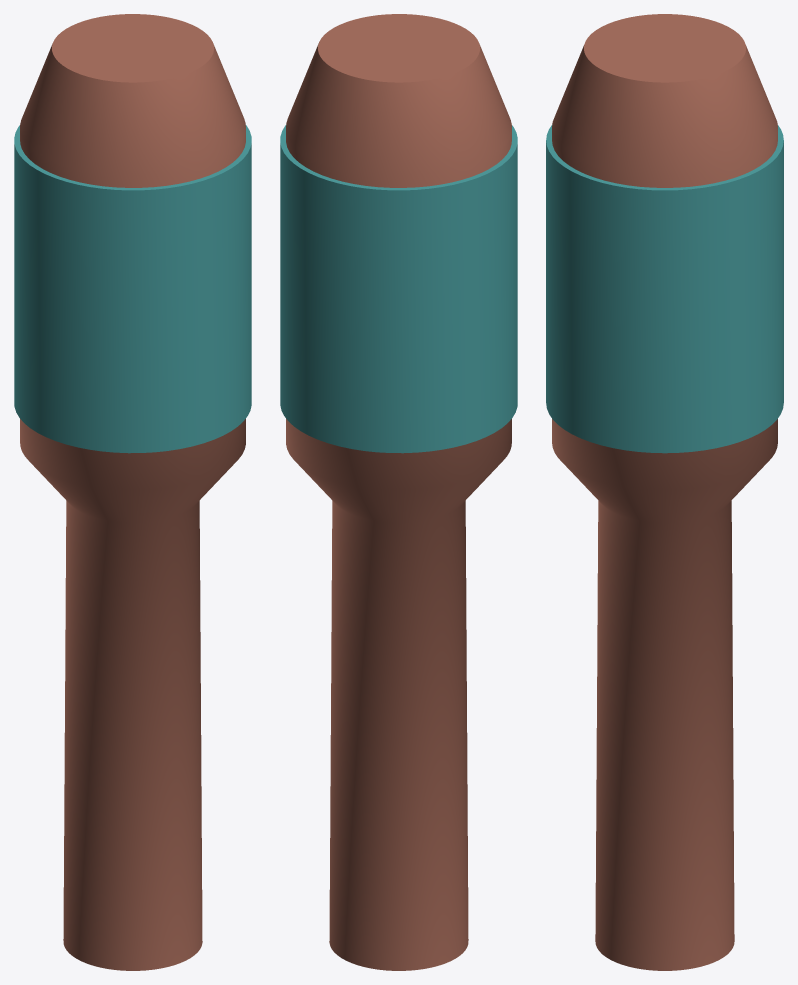
Rendered from enchanted-harp-garden-and-music-sanctuary-singing-bowl-8d2625fb__30422.glb.
The picture shows the model from 3 angles, left to right: view 1: azimuth 30°, elevation 25°; view 2: azimuth 150°, elevation 25°; view 3: azimuth 270°, elevation 25°; orthographic projection.
Parts seen in each view (by area): view 1: singing-bowl-striker; view 2: singing-bowl-striker; view 3: singing-bowl-striker.
Part boxes in pixels (x1,y1,x2,y2): singing-bowl-striker: (14,14,251,970); singing-bowl-striker: (280,14,517,970); singing-bowl-striker: (546,14,783,970).
Size of the model in its own units: 0.082 by 0.34 by 0.082.
